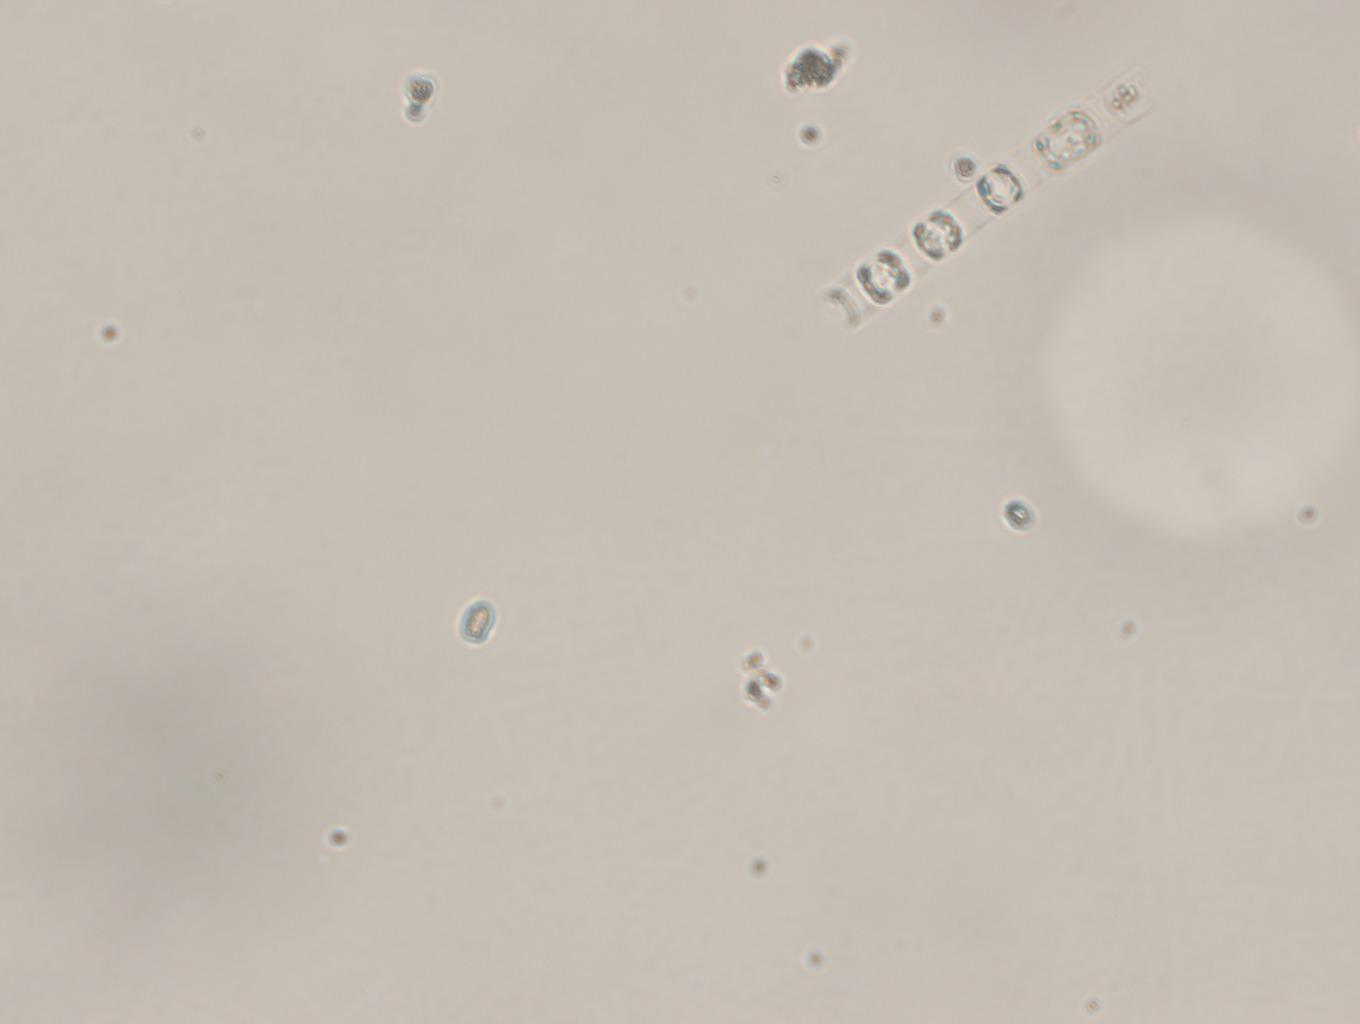skeletonema: (814, 68, 1177, 349)
